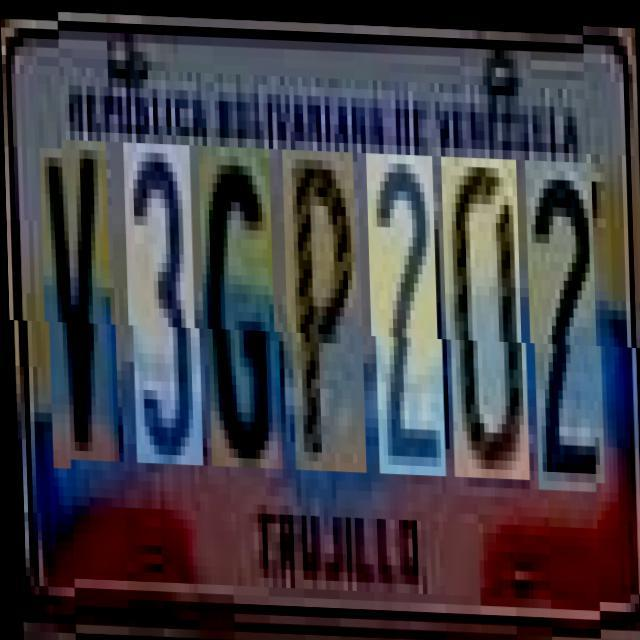0: (445, 152, 527, 475)
2: (528, 156, 602, 487), (370, 150, 443, 472)
3: (127, 142, 200, 464)
G: (202, 144, 280, 466)
P: (286, 147, 364, 469)
V: (44, 138, 116, 460)
